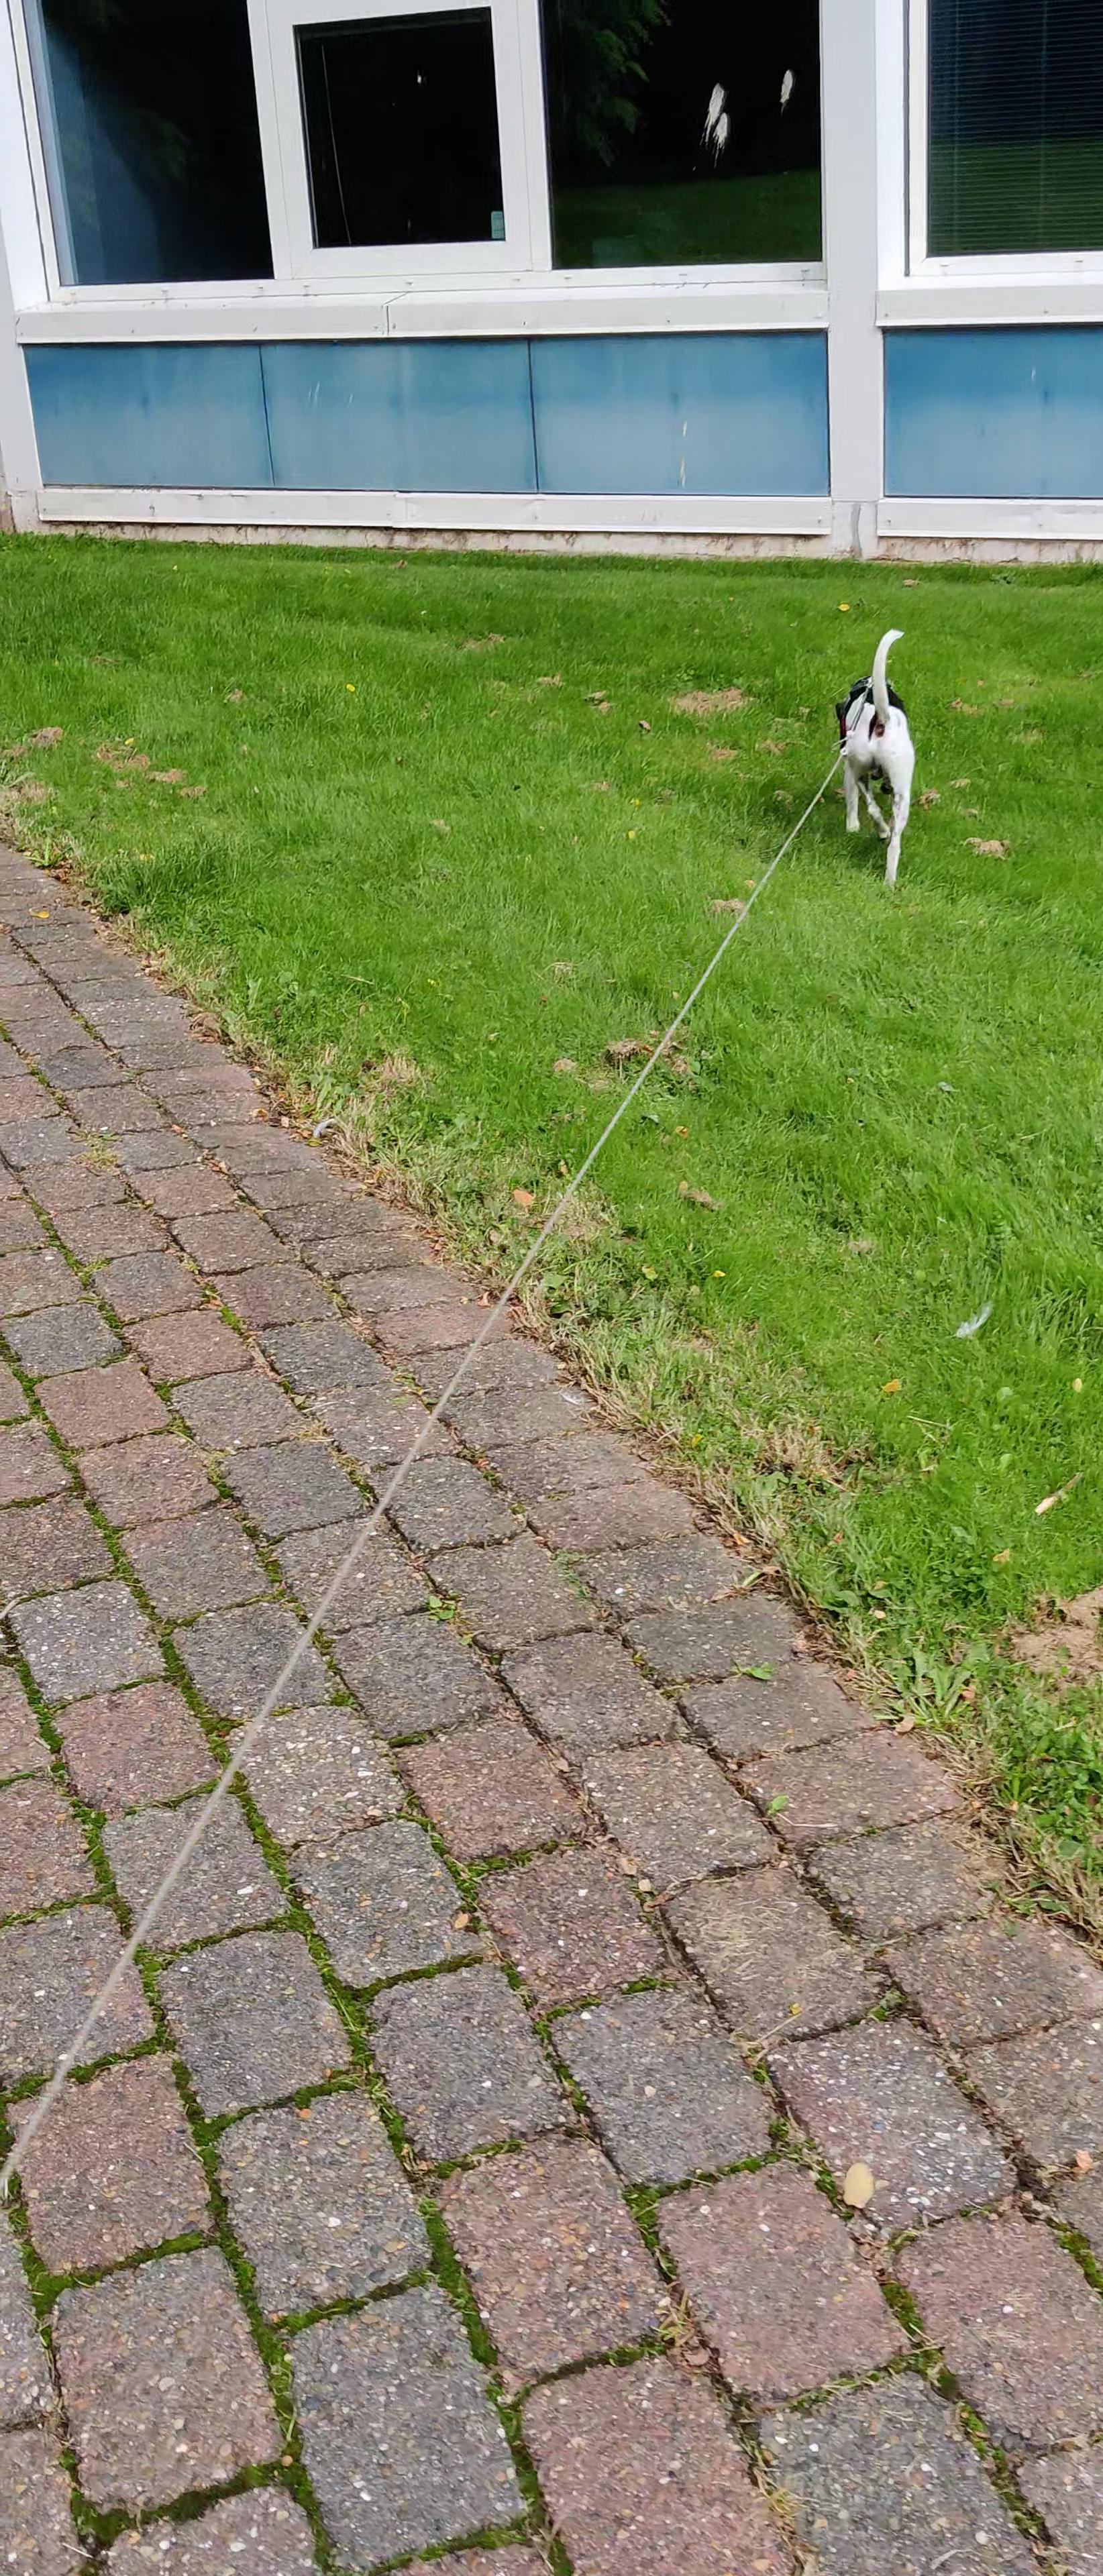Dog: (825, 618, 921, 895)
